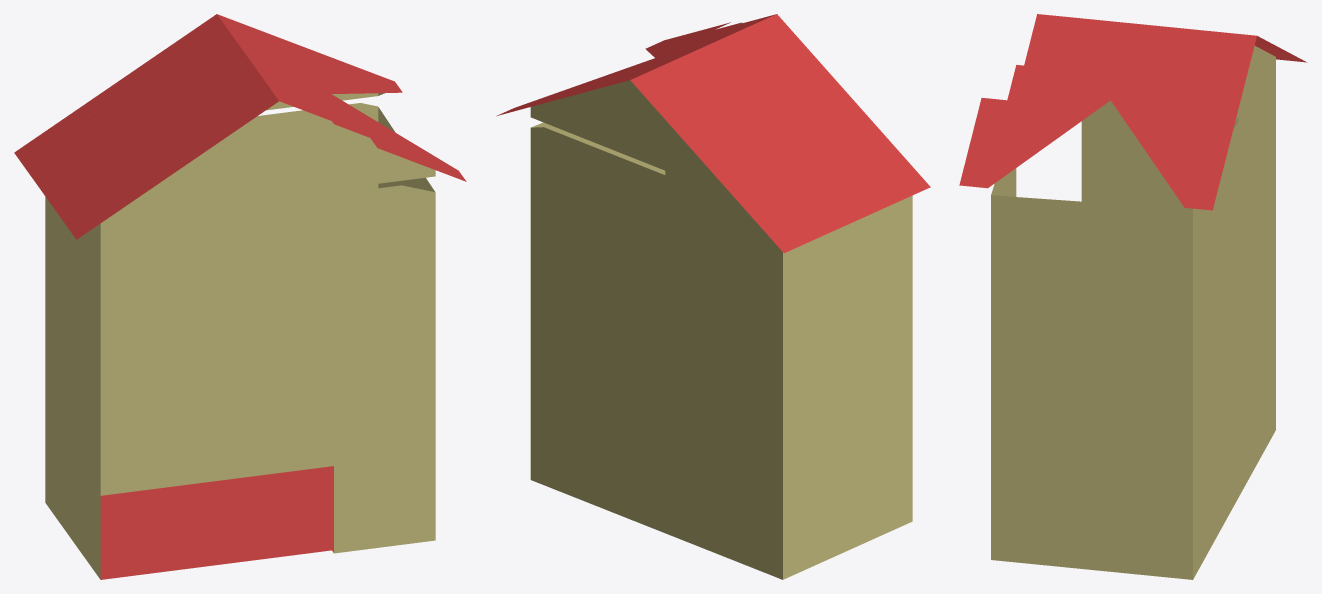
The picture shows the model from 3 angles, left to right: view 1: azimuth 30°, elevation 25°; view 2: azimuth 150°, elevation 25°; view 3: azimuth 270°, elevation 25°; orthographic projection. The views are drawn at different scales.
Bounding box in the file's own units: 8.67 × 6.61 × 9.99.
